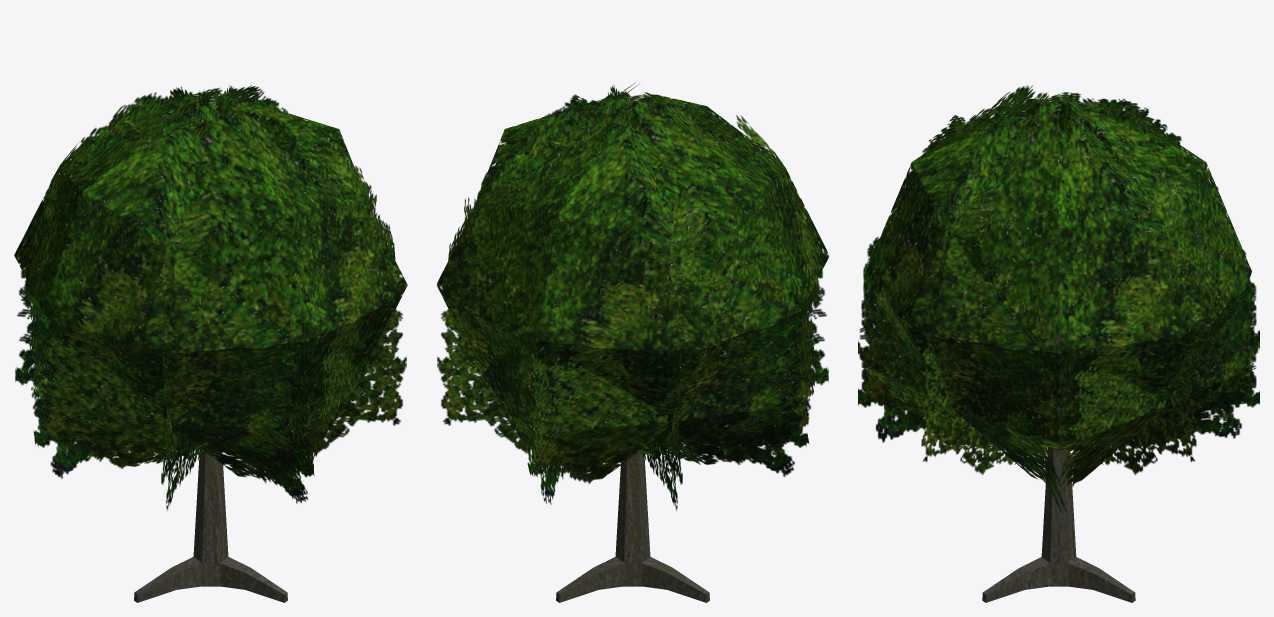
The model's file is tree1.glb.
3 views of the same model, side by side, from view 1: azimuth 30°, elevation 25°; view 2: azimuth 150°, elevation 25°; view 3: azimuth 270°, elevation 25° (orthographic).
Visible parts, largest first — view 1: tree06_top, tree06; view 2: tree06_top, tree06; view 3: tree06_top, tree06.
Part boxes in pixels (box(x1,y1,x2,y2)): tree06_top: box(14, 85, 407, 510); tree06: box(134, 222, 287, 602); tree06_top: box(436, 82, 829, 510); tree06: box(556, 230, 709, 602); tree06_top: box(858, 85, 1259, 512); tree06: box(982, 220, 1135, 602).
Size of the model in its own units: 3.16 by 4.21 by 3.16.
2 materials, 2 textured.
